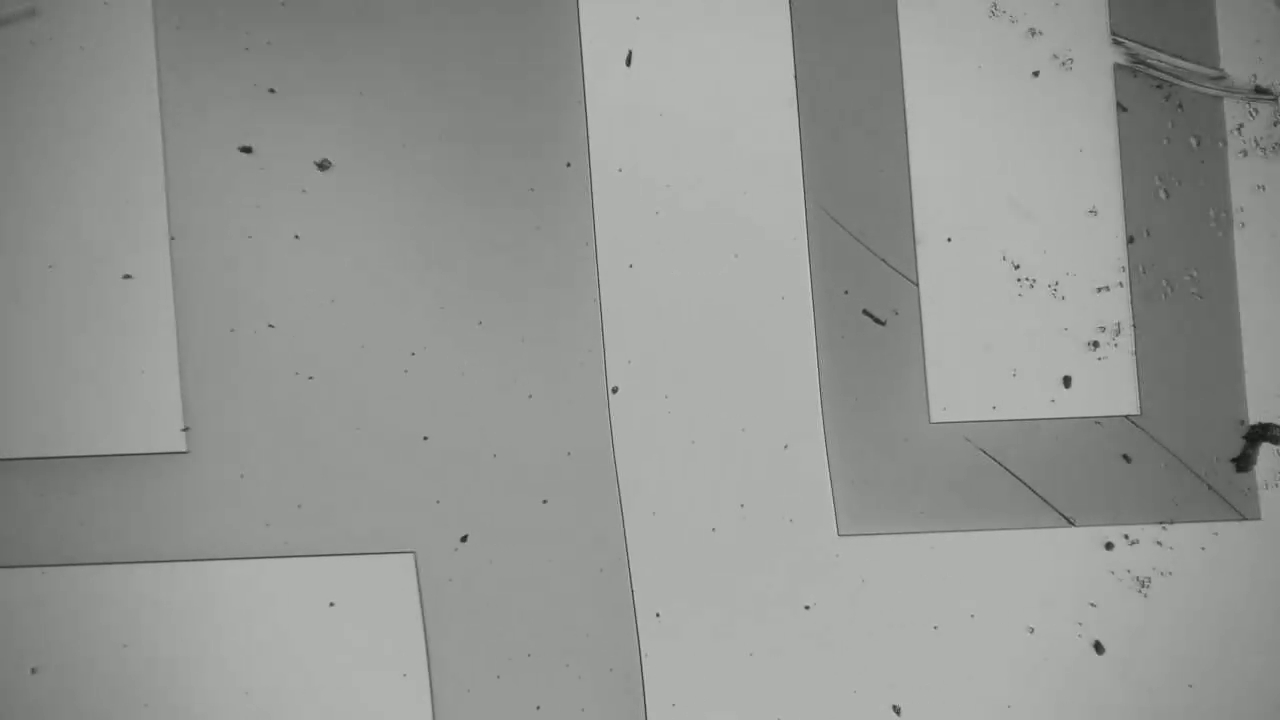Short_circuit: (1077, 21, 1256, 117)
scratch: (970, 443, 1084, 522), (1137, 427, 1238, 514), (824, 213, 915, 300)
